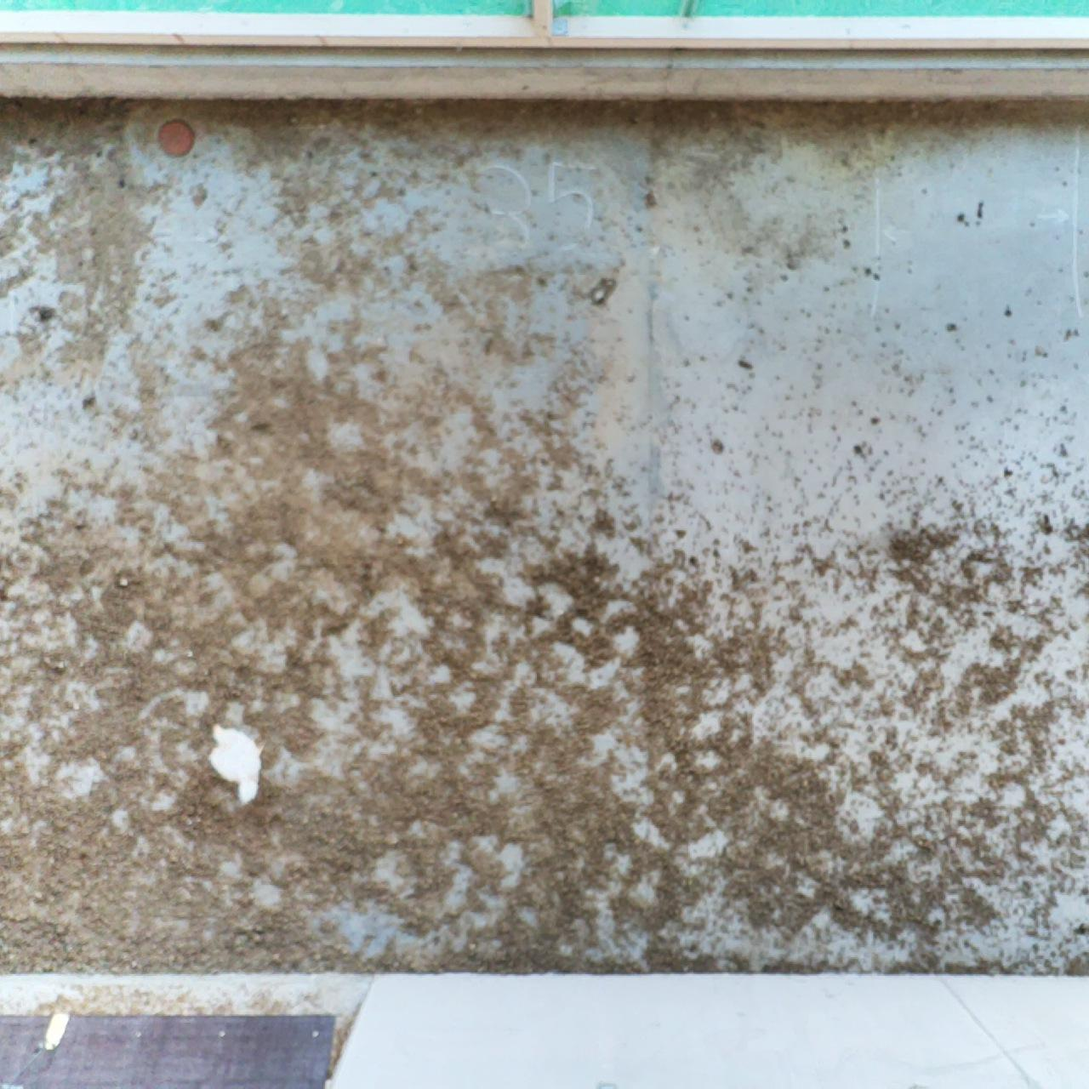chicken: (204, 717, 263, 807)
